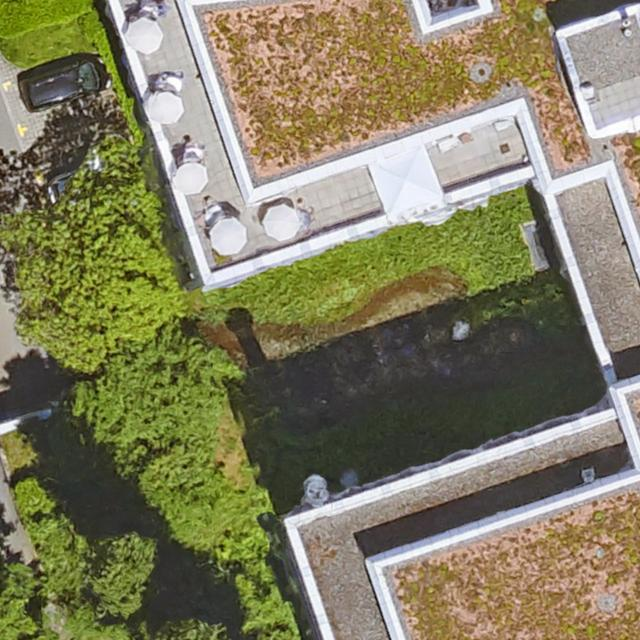tree: (6, 156, 180, 362), (76, 332, 234, 456), (89, 534, 158, 622), (0, 574, 37, 640)
